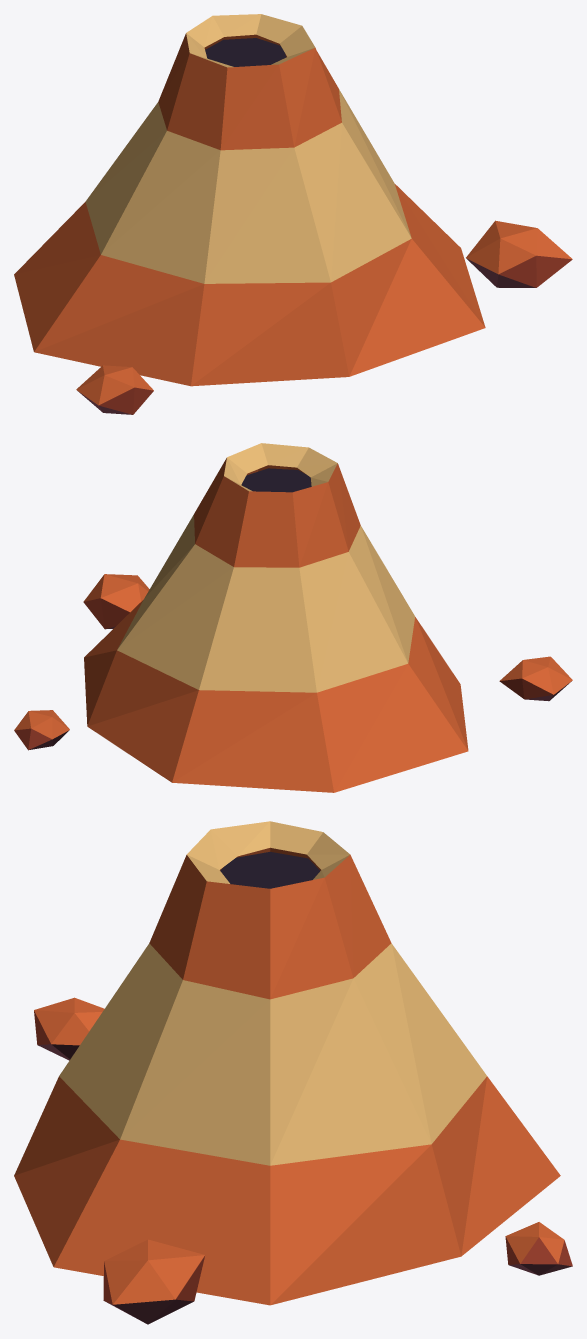
The model's file is Nat_Geyser_B.fbx.
3 renders of one model, top to bottom at view 1: azimuth 30°, elevation 25°; view 2: azimuth 150°, elevation 25°; view 3: azimuth 270°, elevation 25°, orthographic. The views are drawn at different scales.
Visible parts, largest first — view 1: Nat_Geyser_B; view 2: Nat_Geyser_B; view 3: Nat_Geyser_B.
Part boxes in pixels (left/top/right/bottom): Nat_Geyser_B: left=14, top=14, right=572, bottom=414; Nat_Geyser_B: left=14, top=443, right=572, bottom=792; Nat_Geyser_B: left=14, top=821, right=572, bottom=1324.
Size of the model in its own units: 2.91 by 1.45 by 2.29.
